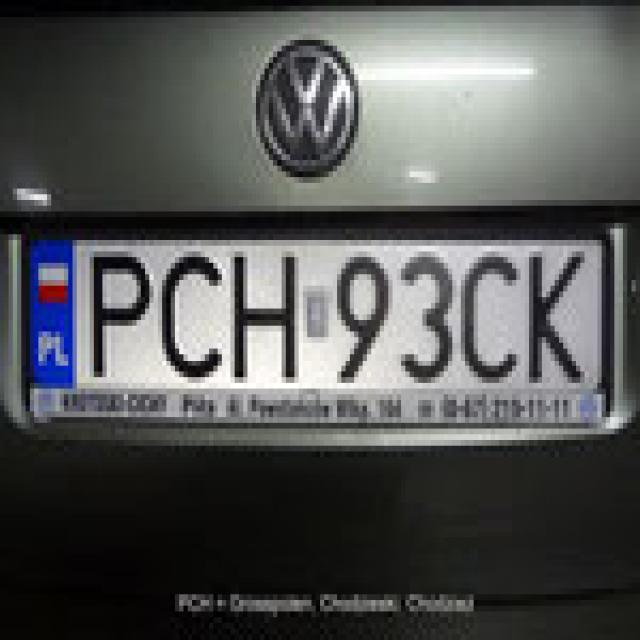pl_license_plate: (21, 234, 598, 383)
